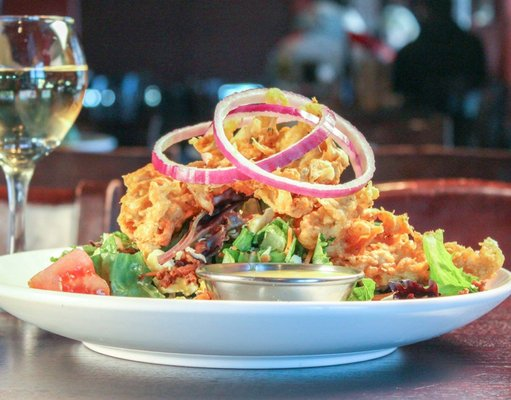sushi: (212, 86, 375, 200), (196, 261, 363, 302), (151, 120, 242, 187)
